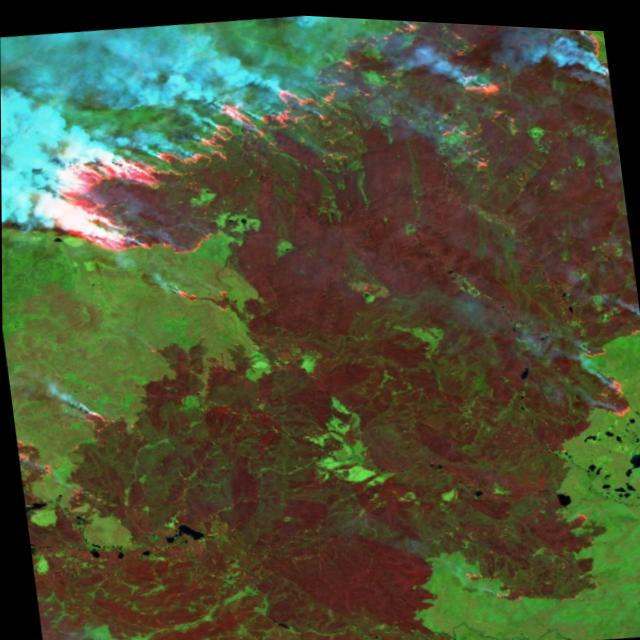fire: (0, 0, 629, 303), (559, 320, 640, 424), (164, 271, 242, 321), (69, 396, 131, 445)
